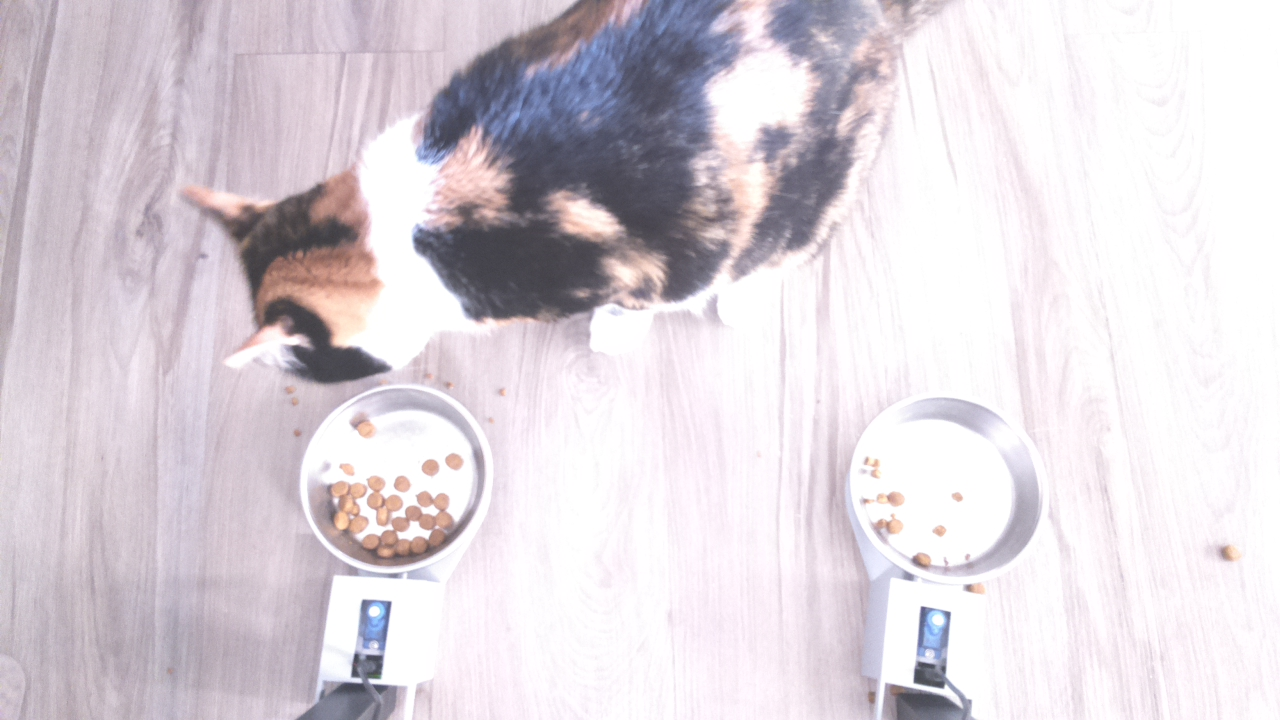bella: (179, 153, 452, 391)
open_bowl: (841, 384, 1055, 586), (301, 383, 495, 576)
